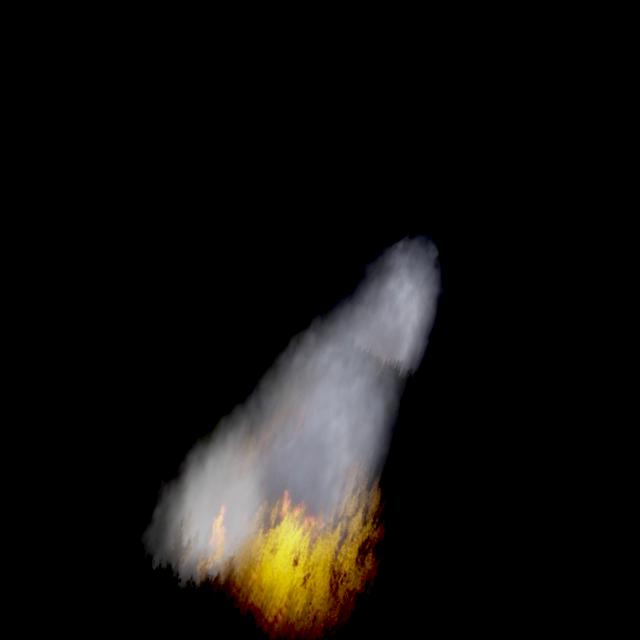fire: (221, 440, 400, 640), (198, 501, 242, 572)
smoke: (122, 170, 465, 636)
